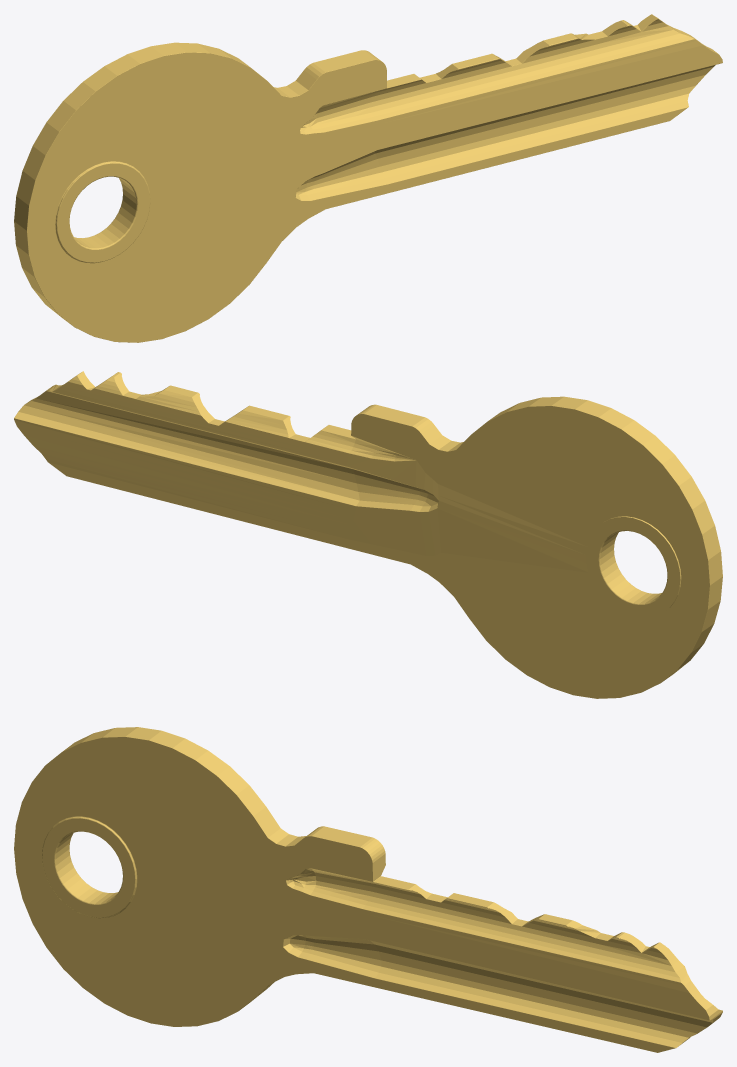
Rendered from Key.obj.
3 renders of one model, top to bottom at view 1: azimuth 30°, elevation 25°; view 2: azimuth 150°, elevation 25°; view 3: azimuth 330°, elevation 25°, orthographic.
Visible parts, largest first — view 1: Key; view 2: Key; view 3: Key.
Boxes of the visible parts, box(x1,y1,x2,y2) form: Key: box(14, 14, 722, 342); Key: box(14, 371, 722, 698); Key: box(14, 727, 722, 1052).
Bounding box in the file's own units: 349 × 137 × 13.48.
